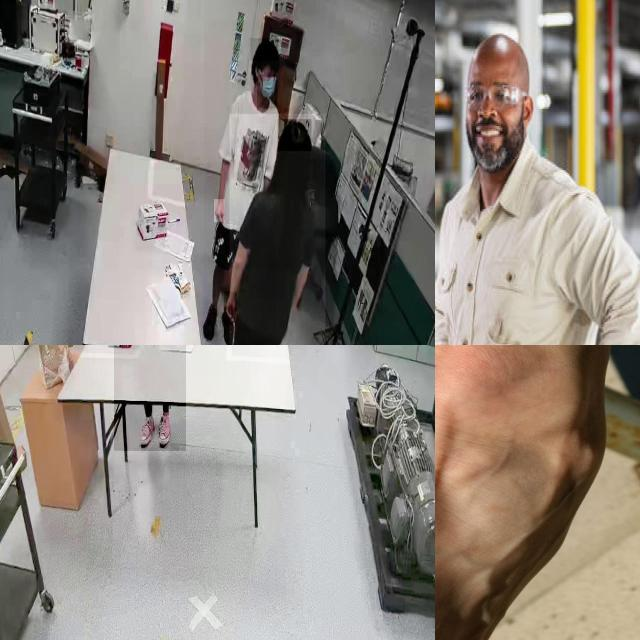Barefoots: (435, 345, 492, 640)
No_Ear-Protection: (522, 94, 535, 130)
face_mask: (257, 74, 278, 108)
face_nomask: (466, 99, 525, 173)
glasses: (466, 84, 528, 110)
hand_noglove: (224, 292, 237, 326), (214, 199, 225, 223)
head_nohelmet: (471, 36, 530, 91), (278, 119, 312, 152), (251, 38, 279, 62)
person: (203, 20, 276, 345), (229, 113, 326, 345), (113, 345, 186, 451)
shoes: (202, 302, 220, 342), (157, 409, 173, 452), (137, 410, 155, 448)
